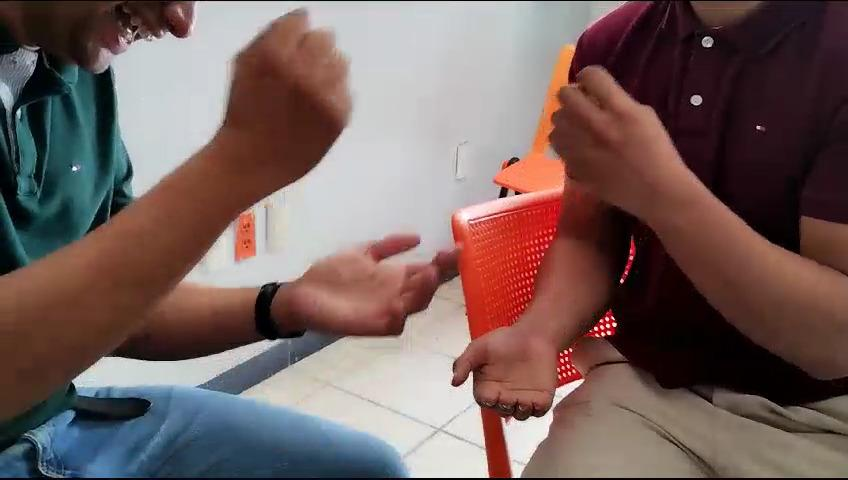Stone: (208, 1, 373, 179)
